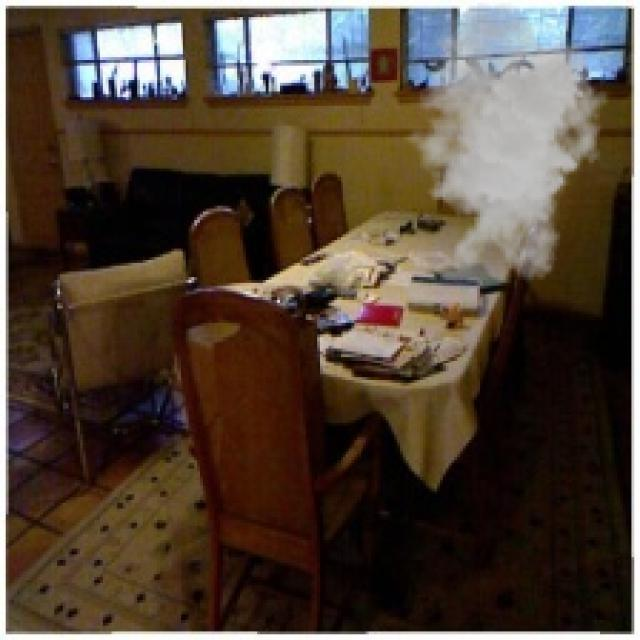Smoke: (394, 3, 609, 283)
